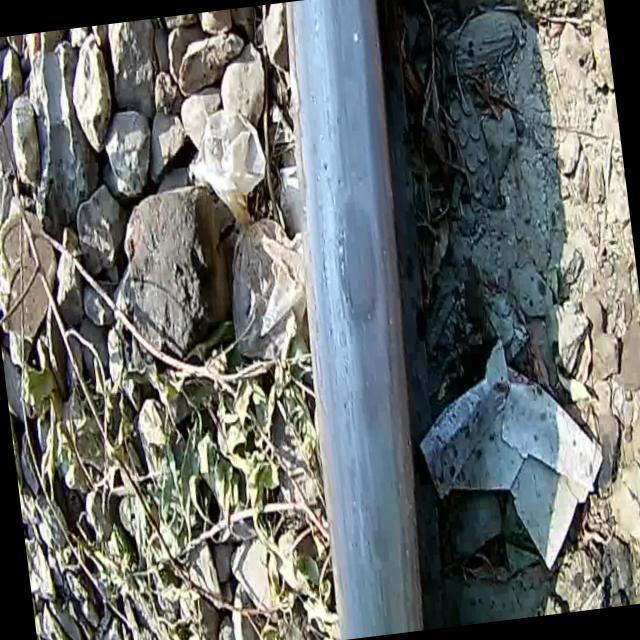Squats: (240, 0, 471, 640)
